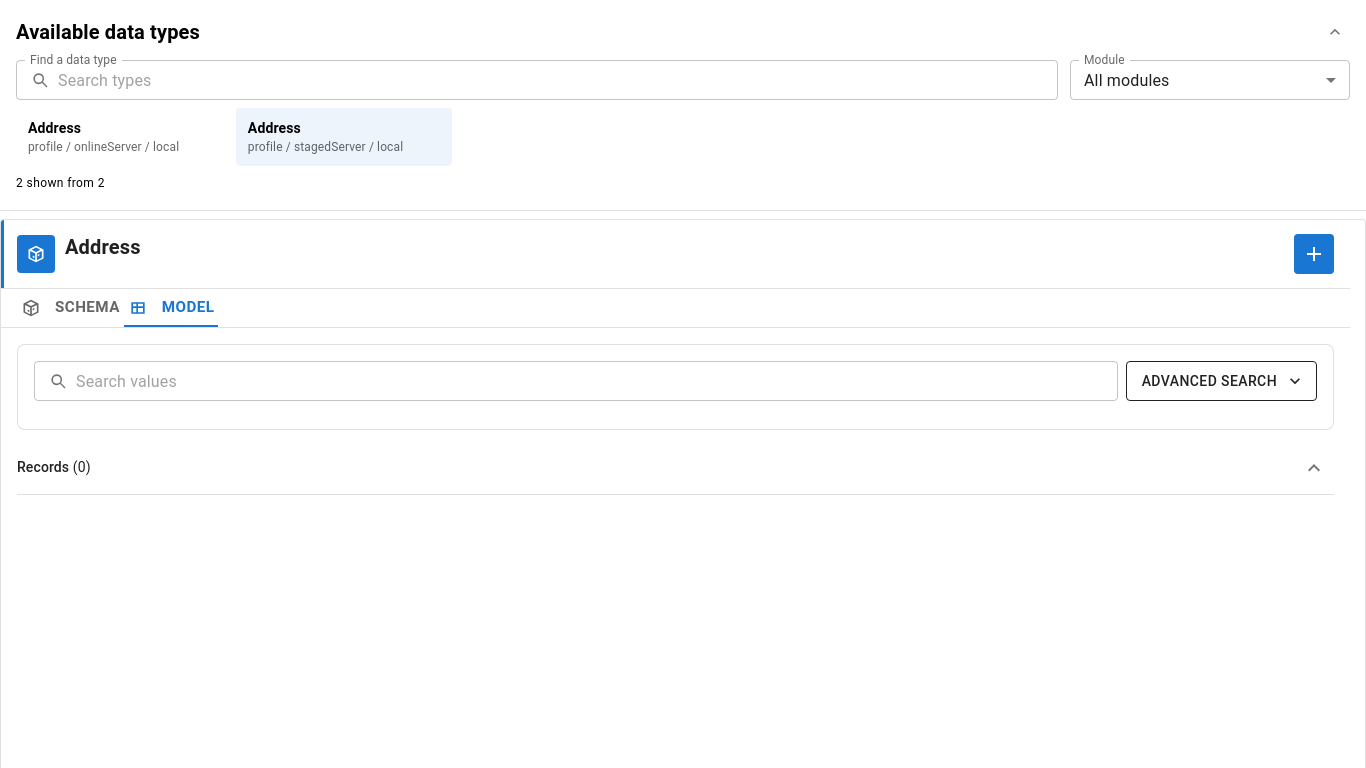
Test: SchemaWorkbenchRenderer › distinguishes real runtime copies while keeping one module filter option
This screenshot has width=1366, height=768.
Expected: the button "Address profile / onlineServer / local" is shown, [28,120,179,154]
Click the button "Address profile / stagedServer / local" at (344, 137), box [236,108,452,166]
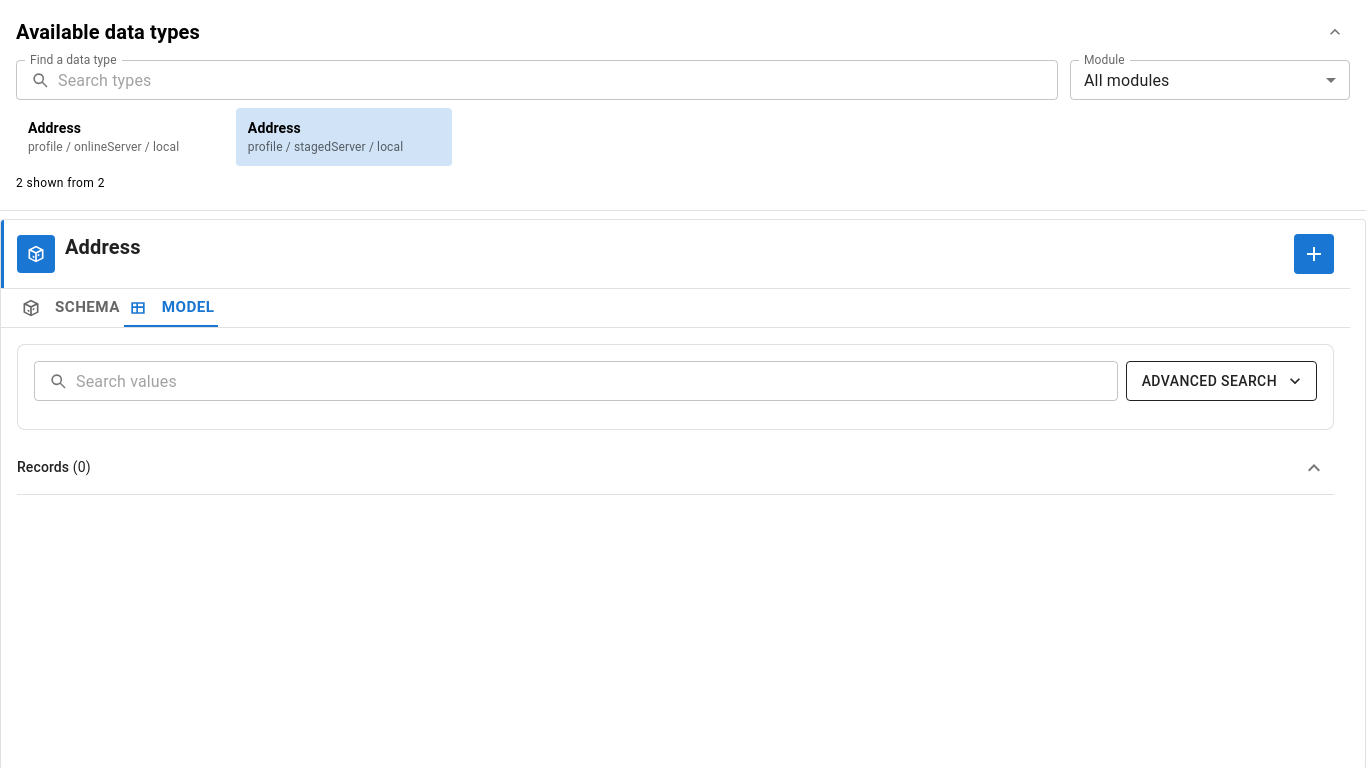
Click the dropdown labelled "module" at (1127, 80), box [1084,70,1170,90]
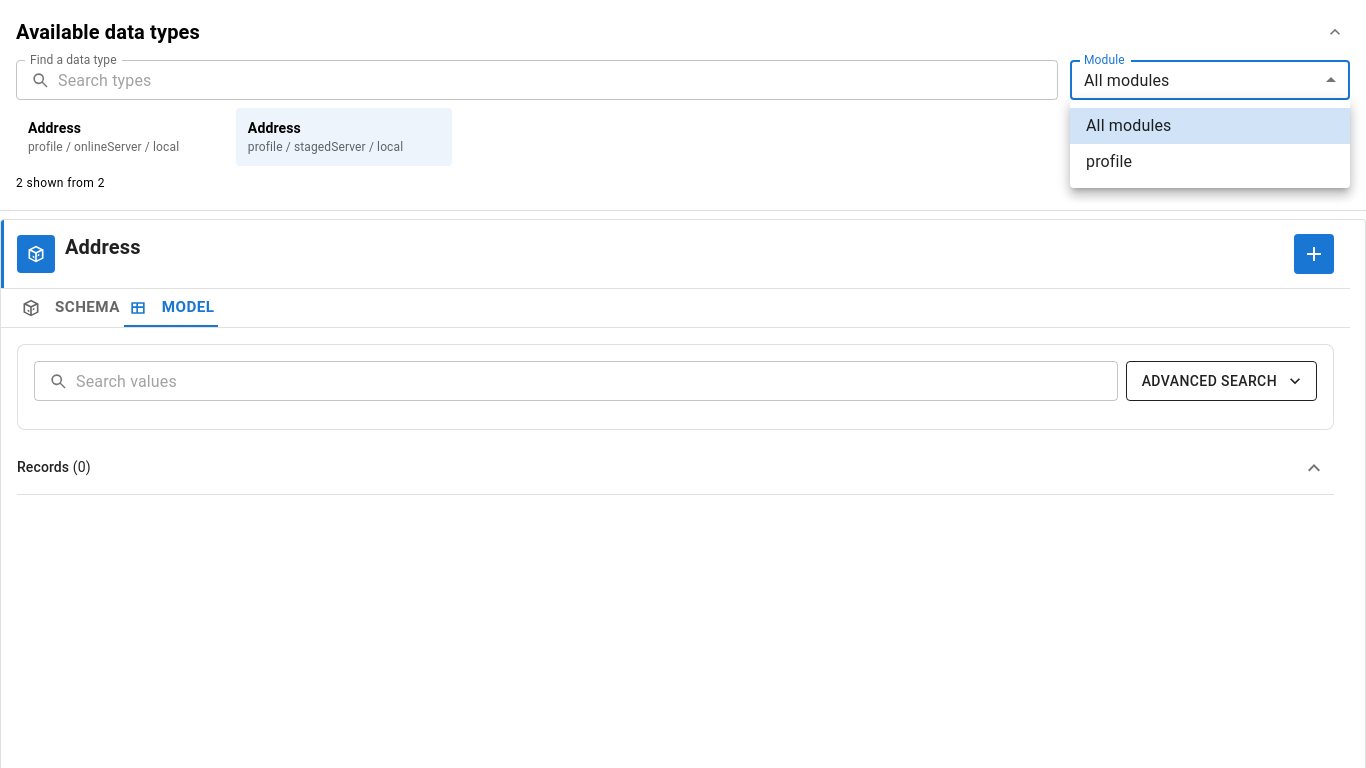
Expected: the number of options "profile" is 1
Click the option "profile" at (1109, 162), box [1086,152,1132,171]
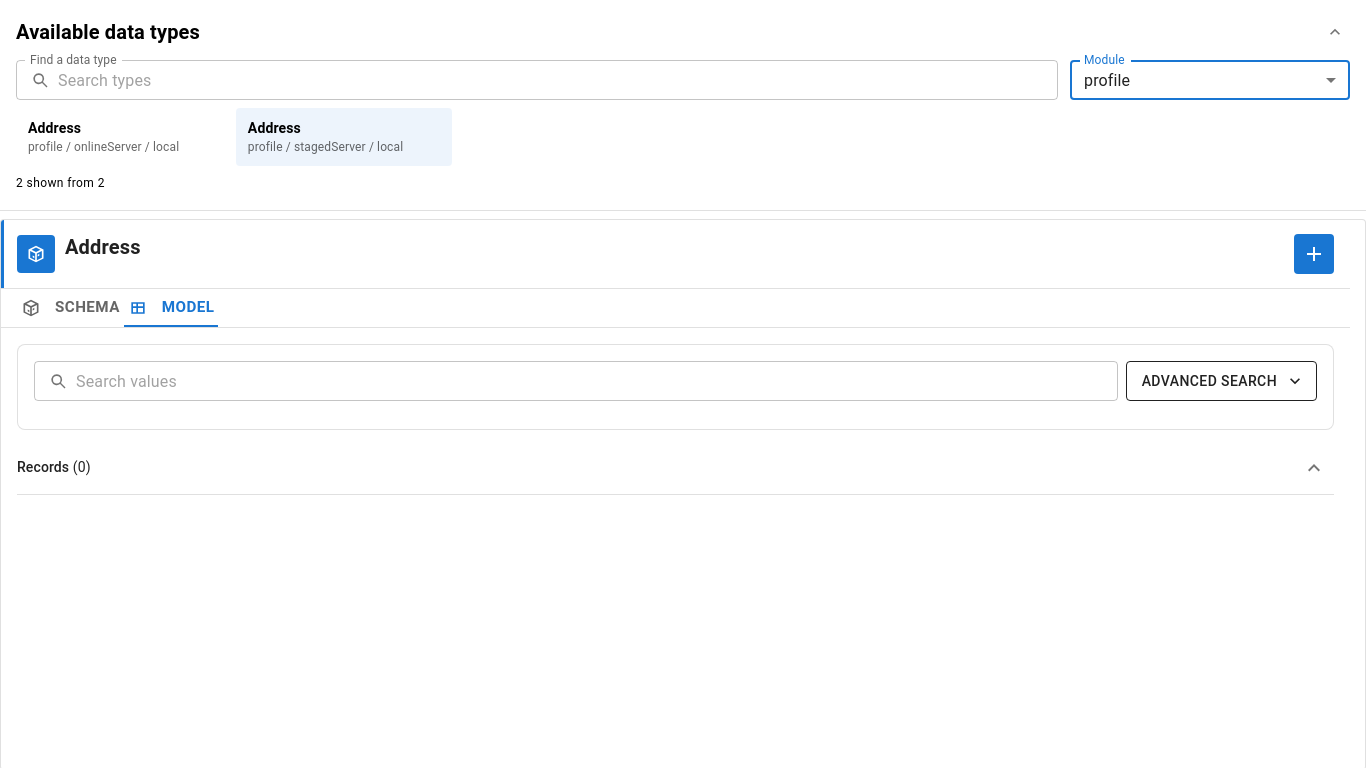
Type "onlineServer" into the field labelled "Find a data type" at (558, 80), box [58,60,1058,100]
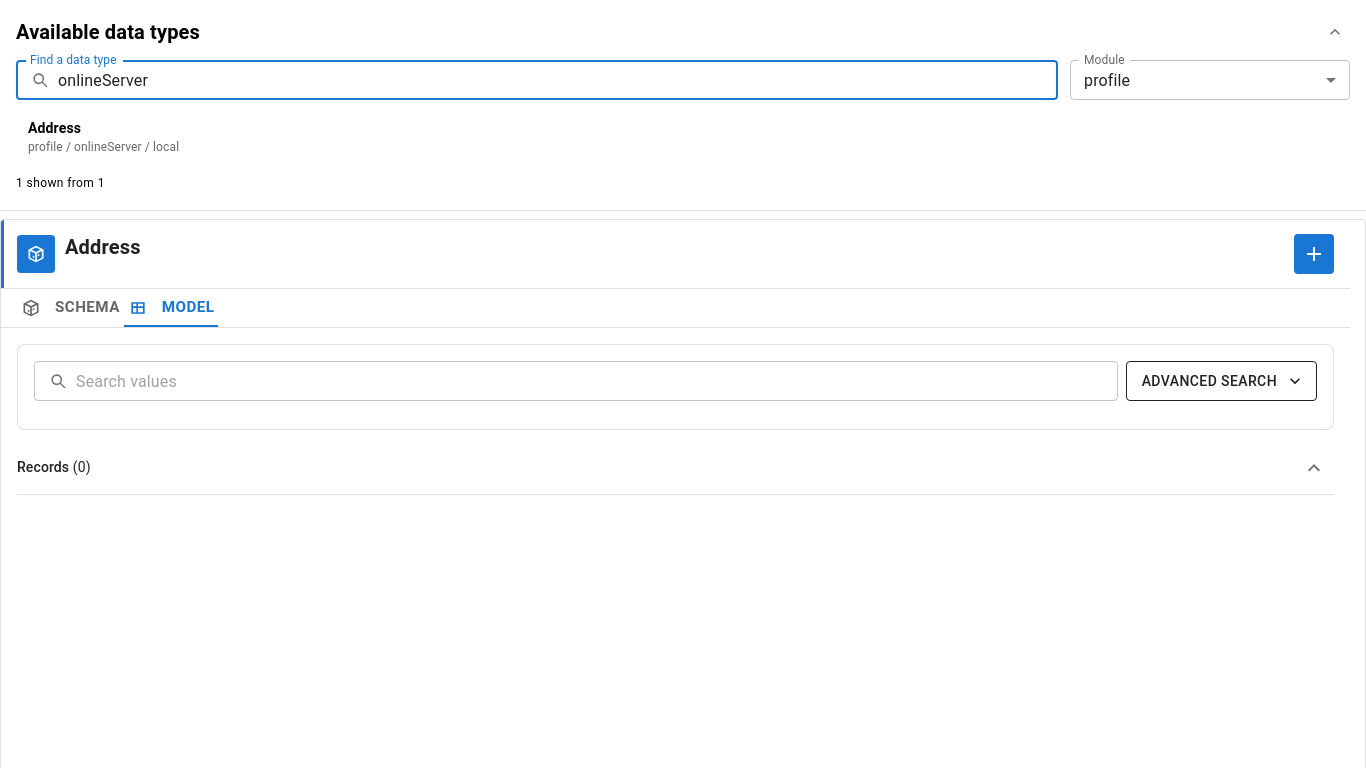
Expected: the button "Address profile / onlineServer / local" is shown, [28,120,179,154]
Expected: the button "Address profile / stagedServer / local" is gone
